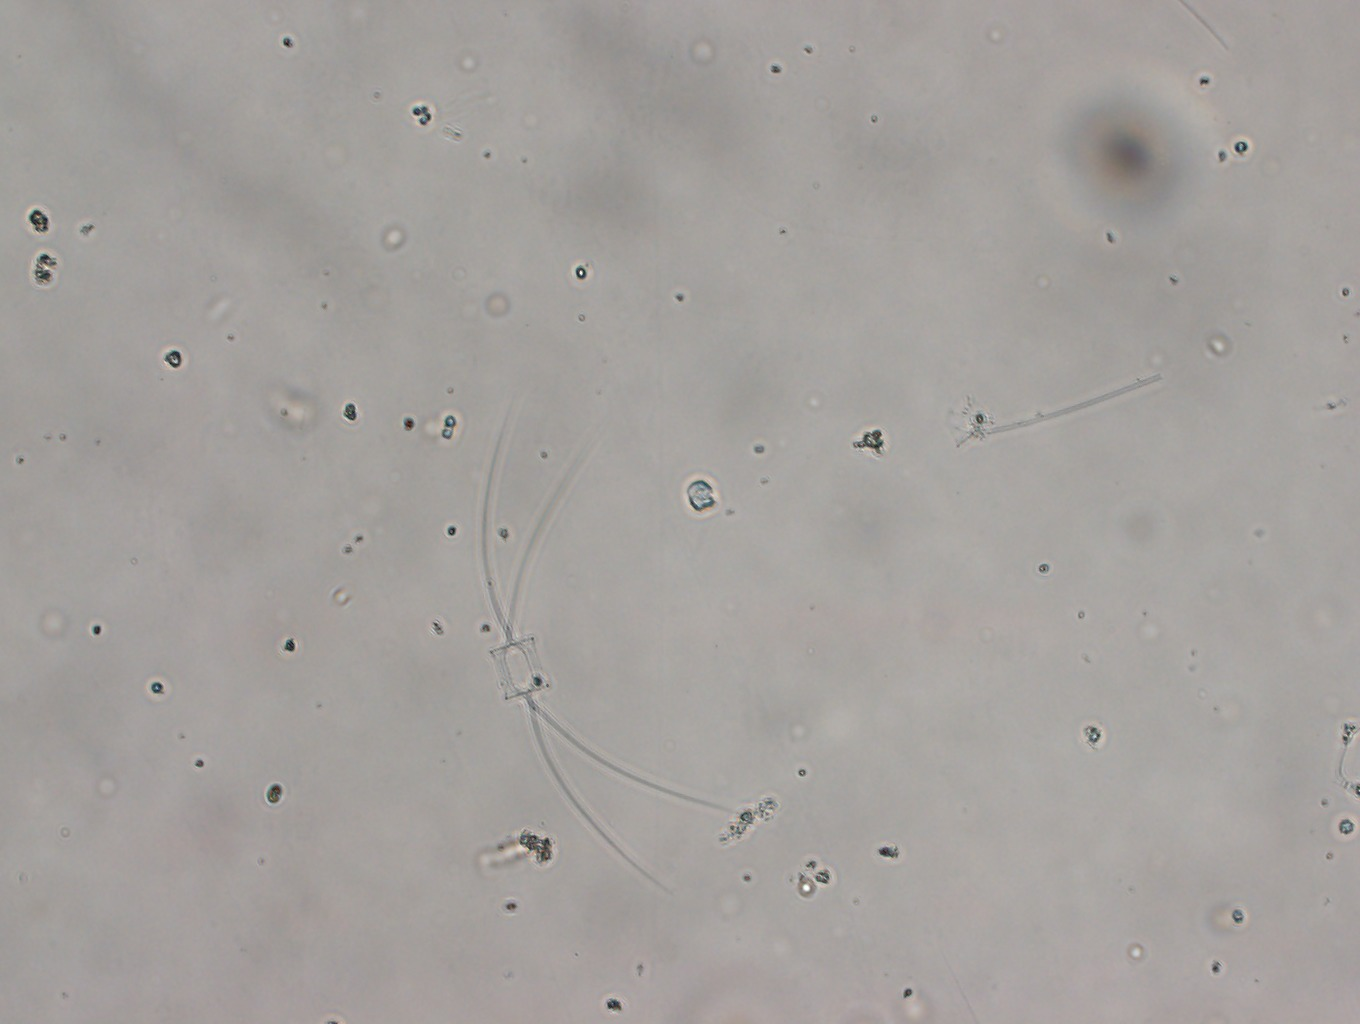chaetoceros: (479, 406, 744, 897)
